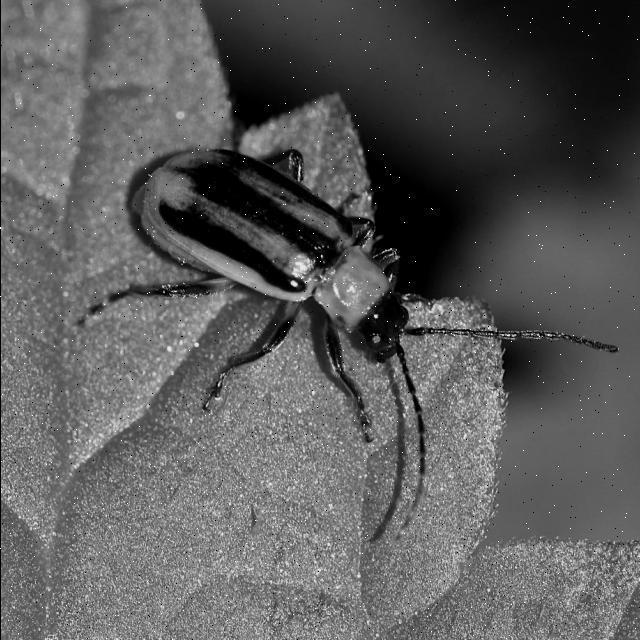trips: (76, 148, 618, 542)
